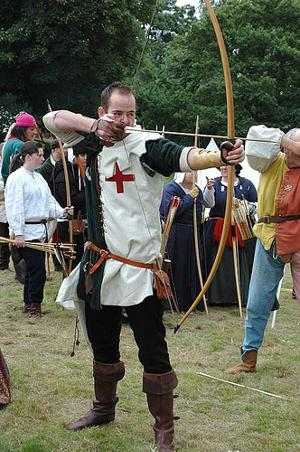person: (42, 78, 243, 452)
